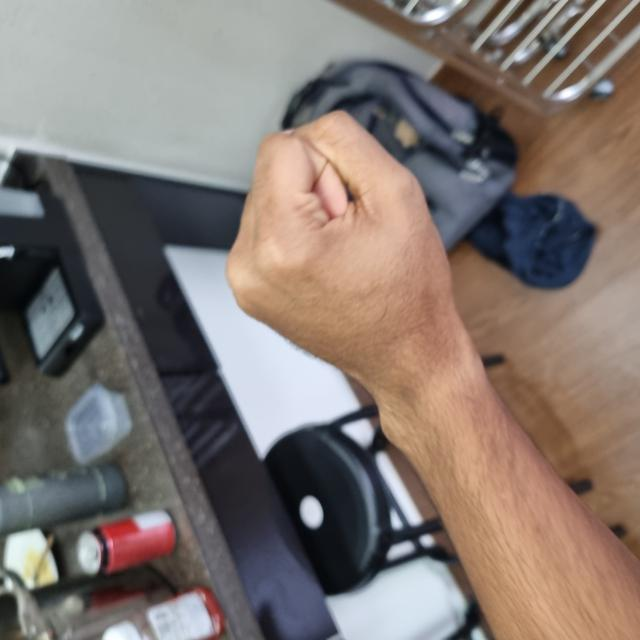Rock: (246, 223, 527, 460)
